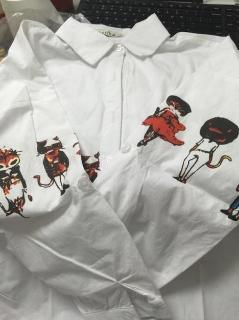long sleeve top: (0, 13, 239, 319)
